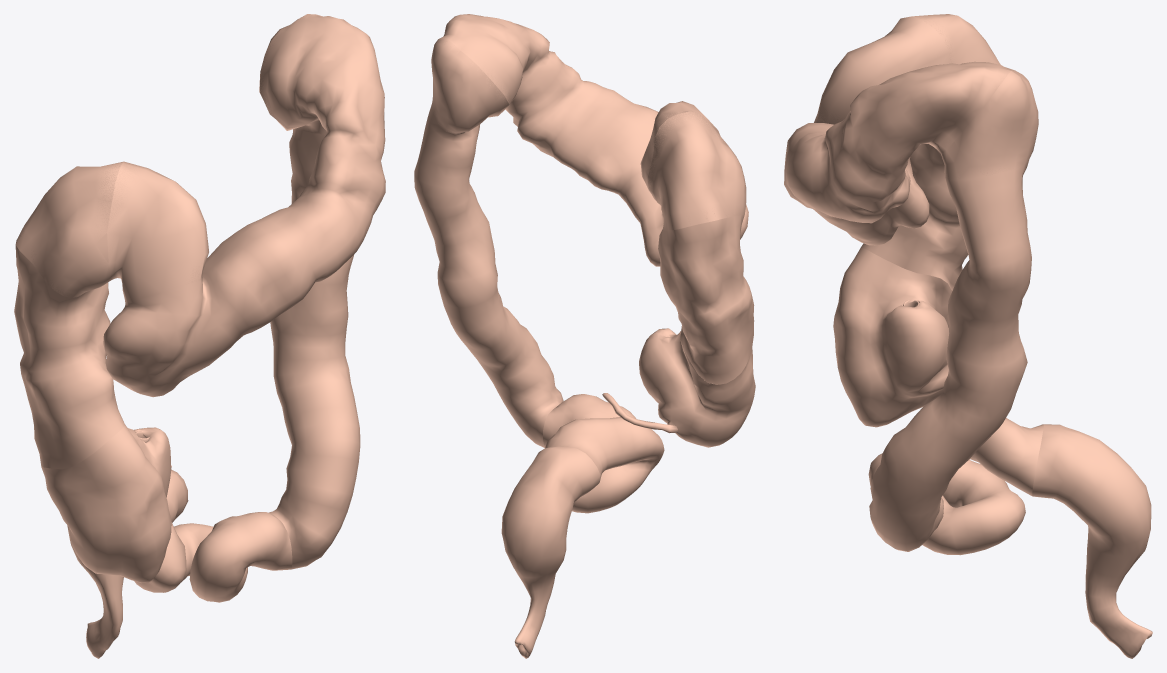
The model's file is large_intestine.glb.
3 views of the same model, side by side, from view 1: azimuth 30°, elevation 25°; view 2: azimuth 150°, elevation 25°; view 3: azimuth 270°, elevation 25° (orthographic). The views are drawn at different scales.
Parts seen in each view (by area): view 1: VH_M_ascending_colon; view 2: VH_M_ascending_colon; view 3: VH_M_ascending_colon.
Part boxes in pixels (left/top/right/bottom): VH_M_ascending_colon: left=14, top=14, right=385, bottom=658; VH_M_ascending_colon: left=414, top=14, right=755, bottom=658; VH_M_ascending_colon: left=784, top=14, right=1152, bottom=658.
Size of the model in its own units: 0.2591 by 0.4503 by 0.2248.
